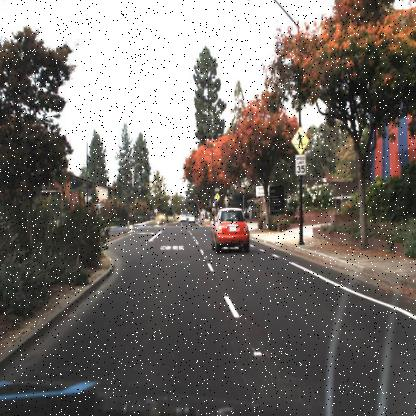car: (211, 206, 252, 251)
